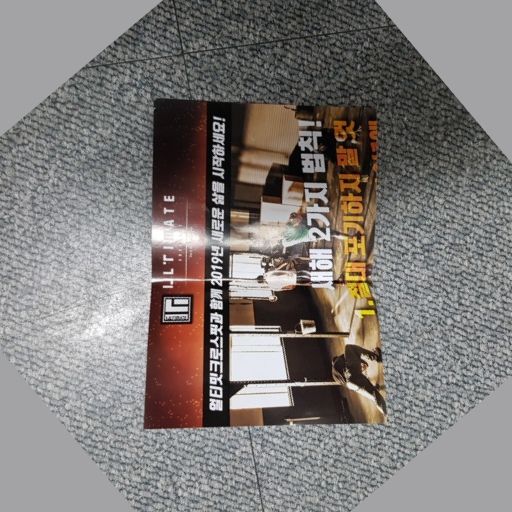Paper_2: (147, 89, 394, 438)
